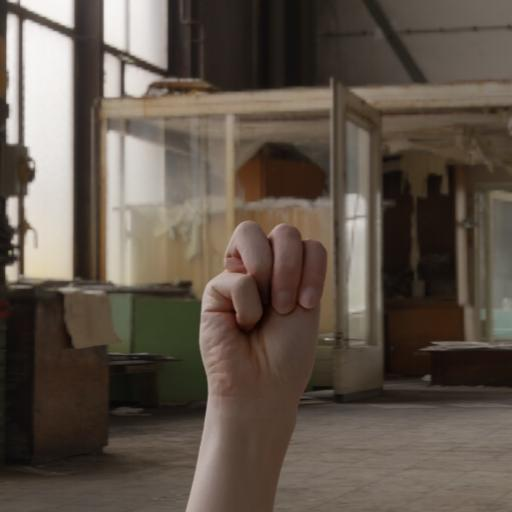M: (196, 218, 329, 400)
